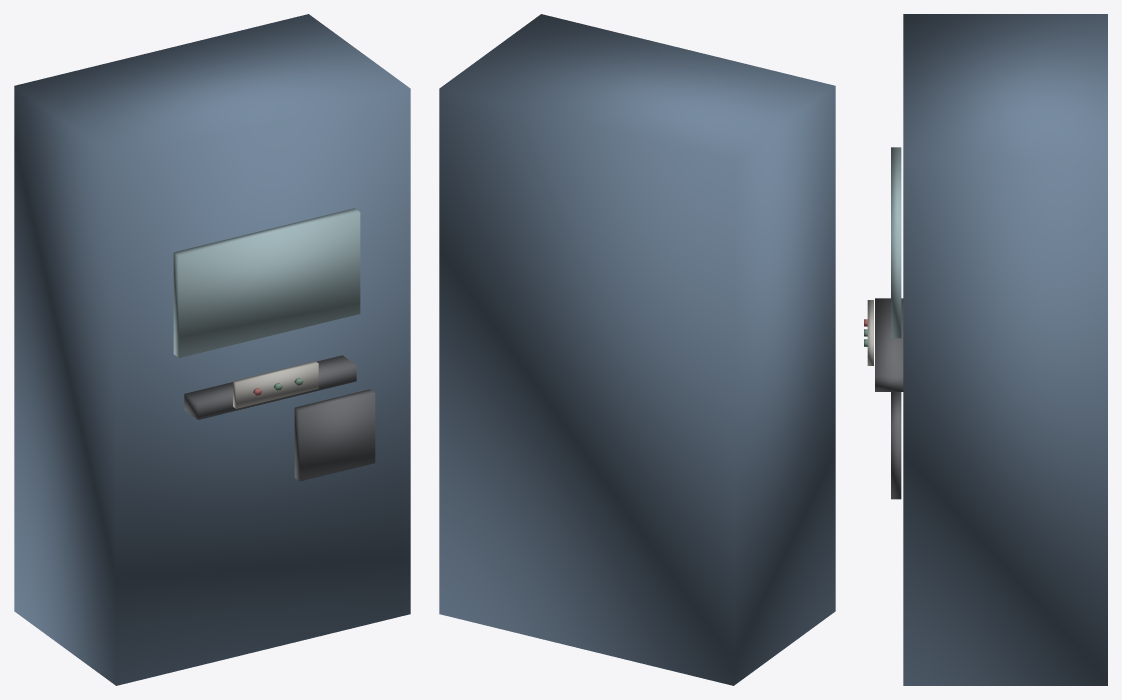
Rendered from atm__wide.glb.
The picture shows the model from 3 angles, left to right: view 1: azimuth 30°, elevation 25°; view 2: azimuth 150°, elevation 25°; view 3: azimuth 270°, elevation 25°; orthographic projection.
Parts seen in each view (by area): view 1: world; view 2: world; view 3: world.
Part boxes in pixels (box(x1,y1,x2,y2)): world: box(14, 14, 410, 685); world: box(439, 14, 835, 685); world: box(864, 14, 1107, 685).
Bounding box in the file's own units: 0.9672 × 1.65 × 0.691.
